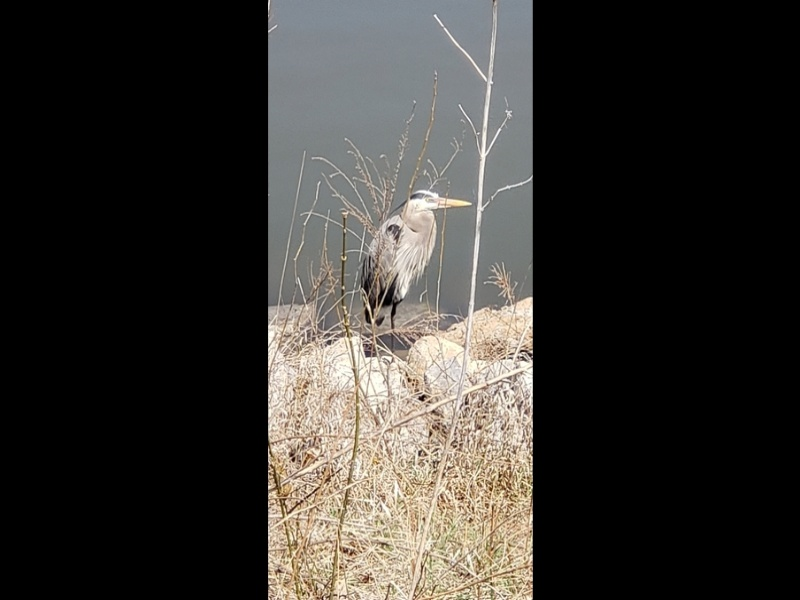heron: (358, 185, 474, 332)
